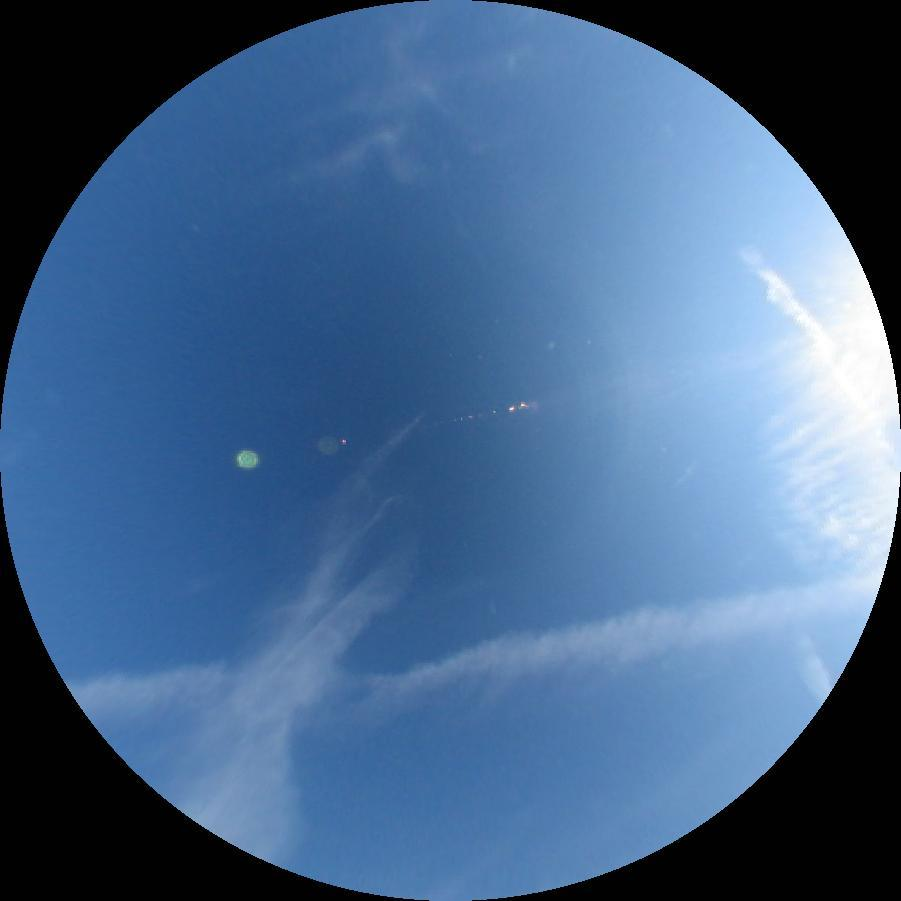contrail old: (732, 235, 901, 464), (781, 618, 838, 707)
contrail veryold: (69, 571, 890, 766), (768, 241, 898, 577)
